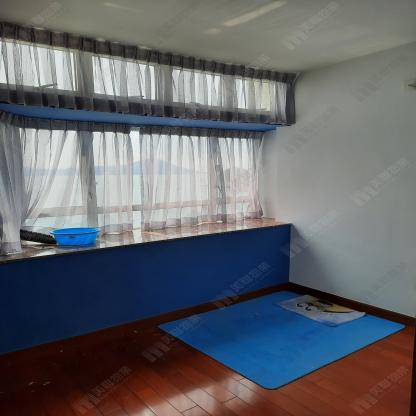Windowsill: (0, 86, 298, 262)
